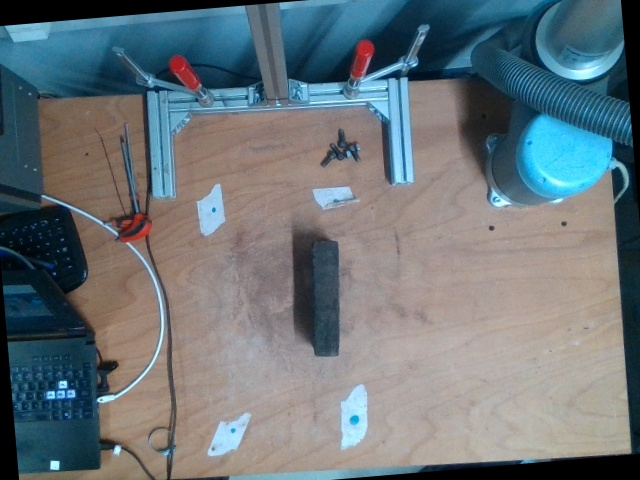brick-side: (311, 242, 339, 354)
